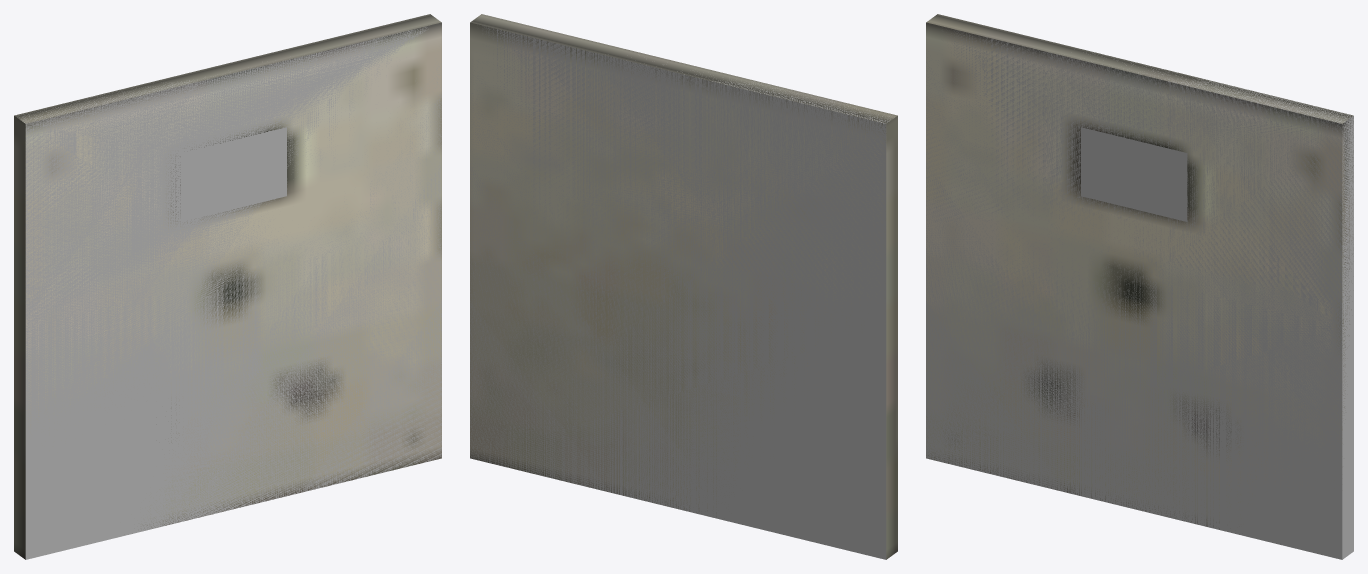
Rendered from light_switch_02.DAE.
3 views of the same model, side by side, from view 1: azimuth 30°, elevation 25°; view 2: azimuth 150°, elevation 25°; view 3: azimuth 330°, elevation 25° (orthographic).
Parts seen in each view (by area): view 1: bounds, light_switch_two100; view 2: bounds, light_switch_two100; view 3: bounds, light_switch_two100.
Part boxes in pixels (x1,y1,x2,y2): bounds: [16, 27, 441, 559]; light_switch_two100: [14, 14, 441, 559]; bounds: [470, 25, 890, 559]; light_switch_two100: [470, 14, 897, 559]; bounds: [926, 30, 1353, 559]; light_switch_two100: [926, 14, 1353, 529].
Size of the model in its own units: 28.91 by 1.39 by 28.94.
